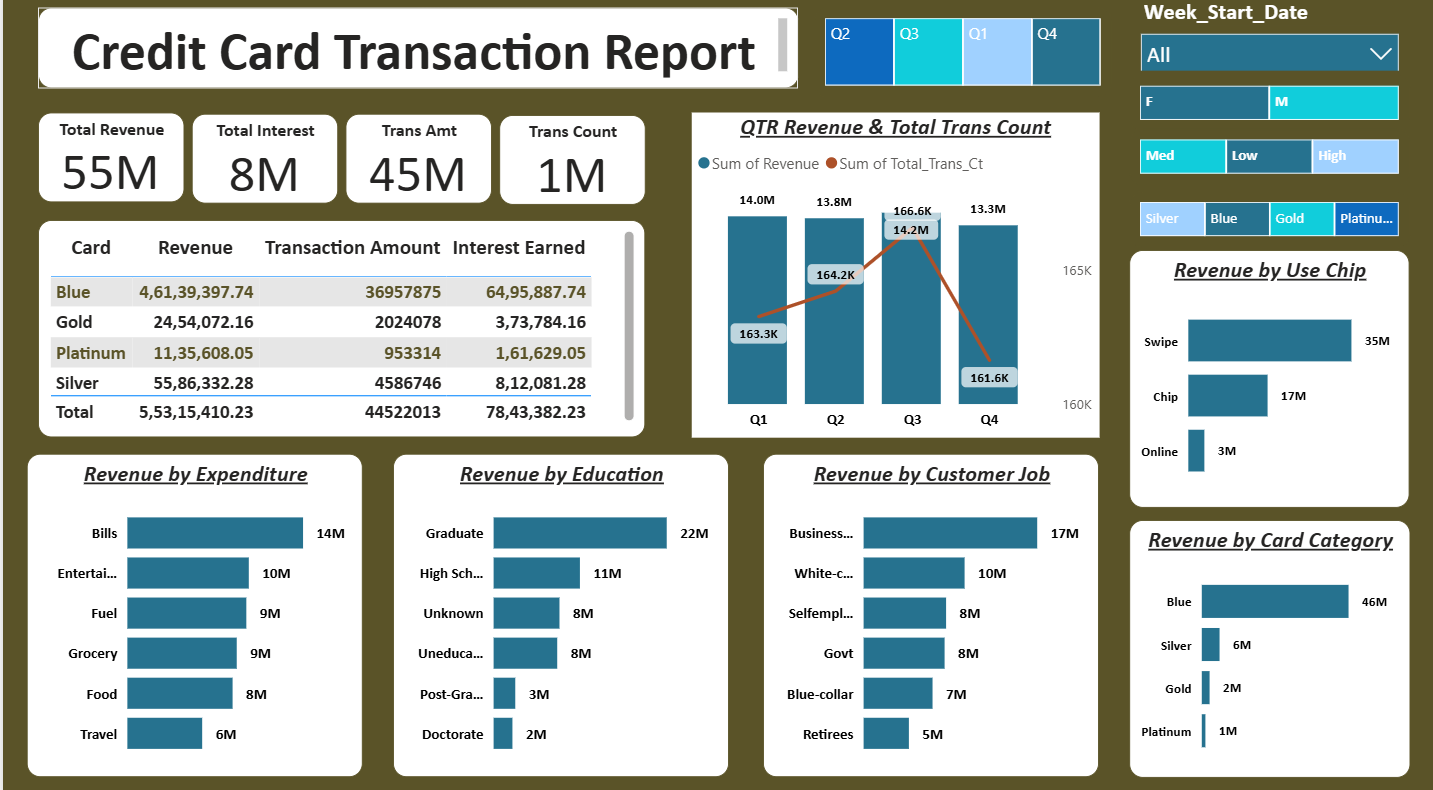

What the dashboard file says about the page in this screenshot:
{"tool":"powerbi","page":{"name":"Transaction","canvas":[1280,720],"ordinal":0},"visuals":[{"type":"textbox","box":[30.7,16,677.3,72.4],"z":0},{"type":"lineStackedColumnComboChart","title":"QTR Revenue & Total Trans Count","fields":{"Category":["cc_detail.Qtr"],"Y":["Sum(cc_detail.Revenue)"],"Y2":["Sum(cc_detail.Total_Trans_Ct)"]},"box":[613.5,109.2,363.2,289.6],"z":1000},{"type":"barChart","title":"Revenue by Expenditure","fields":{"Category":["cc_detail.Exp_Type"],"Y":["Sum(cc_detail.Revenue)"]},"box":[20.9,413.5,299.4,288.3],"z":2000},{"type":"barChart","title":"Revenue by Education","fields":{"Y":["Sum(cc_detail.Revenue)"],"Category":["cust_detail.Education_Level"]},"box":[347.2,413.5,299.4,288.3],"z":3000},{"type":"barChart","title":"Revenue by Customer Job","fields":{"Y":["Sum(cc_detail.Revenue)"],"Category":["cust_detail.Customer_Job"]},"box":[677.3,413.5,299.4,288.3],"z":4000},{"type":"barChart","title":"Revenue by Card Category","fields":{"Y":["Sum(cc_detail.Revenue)"],"Category":["cc_detail.Card_Category"]},"box":[1002.5,472.4,250.3,229.4],"z":5000},{"type":"barChart","title":"Revenue by Use Chip","fields":{"Y":["Sum(cc_detail.Revenue)"],"Category":["cc_detail.Use_Chip"]},"box":[1003,231.5,249.4,229.3],"z":6000},{"type":"tableEx","fields":{"Values":["cc_detail.Card_Category","Sum(cc_detail.Revenue)","Sum(cc_detail.Total_Trans_Amt)","Sum(cc_detail.Interest_Earned)"]},"box":[30.7,204.9,541.1,193.9],"z":7000},{"type":"card","title":"Total Revenue","fields":{"Values":["Sum(cc_detail.Revenue)"]},"box":[30.7,109.2,130,79.8],"z":8000},{"type":"slicer","fields":{"Values":["cc_detail.Week_Start_Date"]},"box":[1002.5,2.5,250.3,69.9],"z":9000},{"type":"treemap","fields":{"Group":["cc_detail.Qtr"],"Values":["CountNonNull(cc_detail.Client_Num)"]},"box":[722.7,16,265,79.8],"z":10000},{"type":"treemap","fields":{"Values":["Avg(cc_detail.Client_Num)"],"Group":["cust_detail.Gender"]},"box":[1002.5,76.1,250.3,50.3],"z":11000},{"type":"treemap","fields":{"Values":["Avg(cc_detail.Client_Num)"],"Group":["cc_detail.Card_Category"]},"box":[1002.5,179.1,250.3,50.3],"z":12000},{"type":"treemap","fields":{"Values":["Avg(cc_detail.Client_Num)"],"Group":["cust_detail.Income_group"]},"box":[1002.5,123.9,250.3,50.3],"z":13000},{"type":"card","title":"Total Interest","fields":{"Values":["Sum(cc_detail.Interest_Earned)"]},"box":[168.1,110.4,130.1,79.8],"z":14000},{"type":"card","title":"Trans Amt","fields":{"Values":["Sum(cc_detail.Total_Trans_Amt)"]},"box":[305.5,110.4,130.1,79.8],"z":15000},{"type":"card","title":"Trans Count","fields":{"Values":["Sum(cc_detail.Total_Trans_Ct)"]},"box":[441.7,111.7,130.1,79.8],"z":16000}]}

Visuals, with their boxes in screenshot pixels (x1, y1, x2, y2), scaled from the page's 1280x720 canvas onto the 1433x790 screenshot:
textbox: <bbox>34, 18, 793, 97</bbox>
"QTR Revenue & Total Trans Count" lineStackedColumnComboChart: <bbox>687, 120, 1093, 438</bbox>
"Revenue by Expenditure" barChart: <bbox>23, 454, 359, 770</bbox>
"Revenue by Education" barChart: <bbox>389, 454, 724, 770</bbox>
"Revenue by Customer Job" barChart: <bbox>758, 454, 1093, 770</bbox>
"Revenue by Card Category" barChart: <bbox>1122, 518, 1403, 770</bbox>
"Revenue by Use Chip" barChart: <bbox>1123, 254, 1402, 506</bbox>
tableEx - cc_detail.Card_Category x Sum(cc_detail.Revenue): <bbox>34, 225, 640, 438</bbox>
"Total Revenue" card: <bbox>34, 120, 180, 207</bbox>
slicer - cc_detail.Week_Start_Date: <bbox>1122, 3, 1403, 79</bbox>
treemap - cc_detail.Qtr x CountNonNull(cc_detail.Client_Num): <bbox>809, 18, 1106, 105</bbox>
treemap - Avg(cc_detail.Client_Num) x cust_detail.Gender: <bbox>1122, 83, 1403, 139</bbox>
treemap - Avg(cc_detail.Client_Num) x cc_detail.Card_Category: <bbox>1122, 197, 1403, 252</bbox>
treemap - Avg(cc_detail.Client_Num) x cust_detail.Income_group: <bbox>1122, 136, 1403, 191</bbox>
"Total Interest" card: <bbox>188, 121, 334, 209</bbox>
"Trans Amt" card: <bbox>342, 121, 488, 209</bbox>
"Trans Count" card: <bbox>494, 123, 640, 210</bbox>
